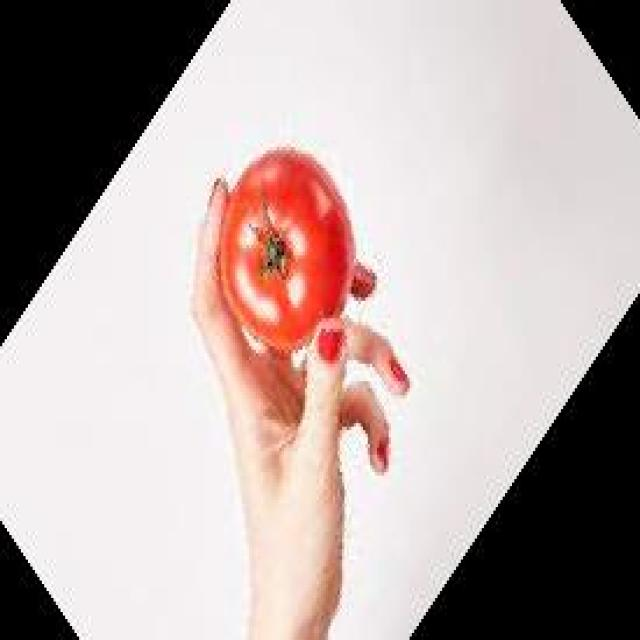Tomato: (216, 142, 362, 358)
